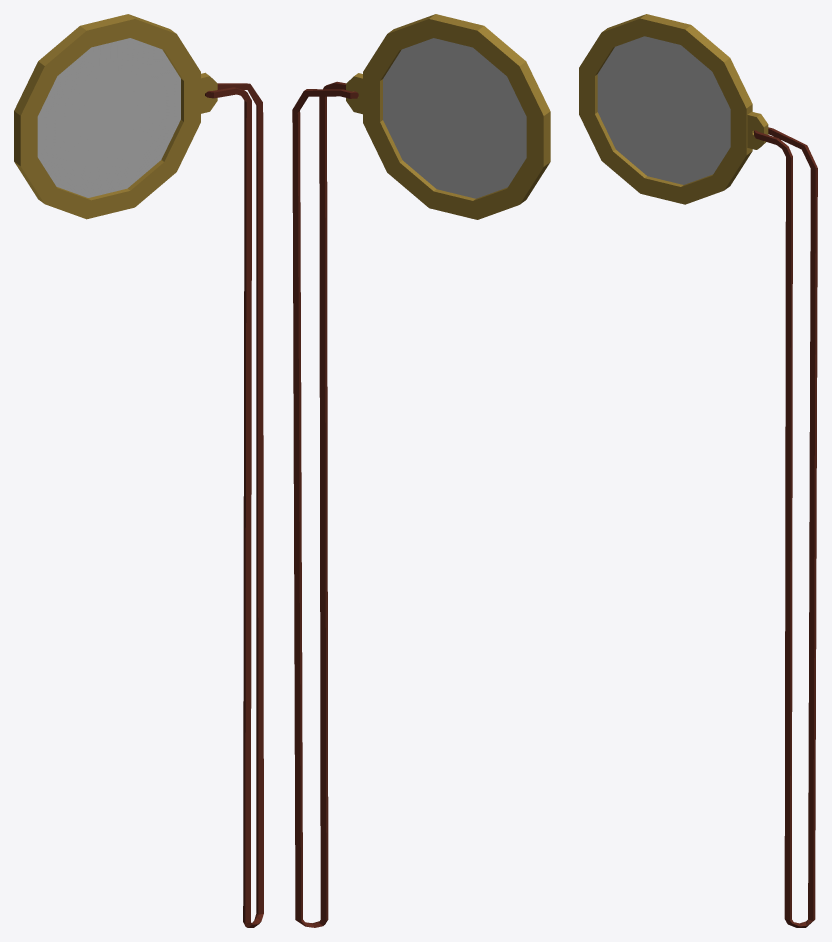
Rendered from outfit_monocle.glb.
3 renders of one model, left to right at view 1: azimuth 30°, elevation 25°; view 2: azimuth 150°, elevation 25°; view 3: azimuth 330°, elevation 25°, orthographic. The views are drawn at different scales.
Visible parts, largest first — view 1: outfit_monocle; view 2: outfit_monocle; view 3: outfit_monocle.
Part boxes in pixels (x1=…): outfit_monocle: x1=14, y1=14, x2=263, y2=927; outfit_monocle: x1=292, y1=14, x2=550, y2=927; outfit_monocle: x1=579, y1=14, x2=817, y2=927.
Bounding box in the file's own units: 0.0833 × 0.3 × 0.00571.
